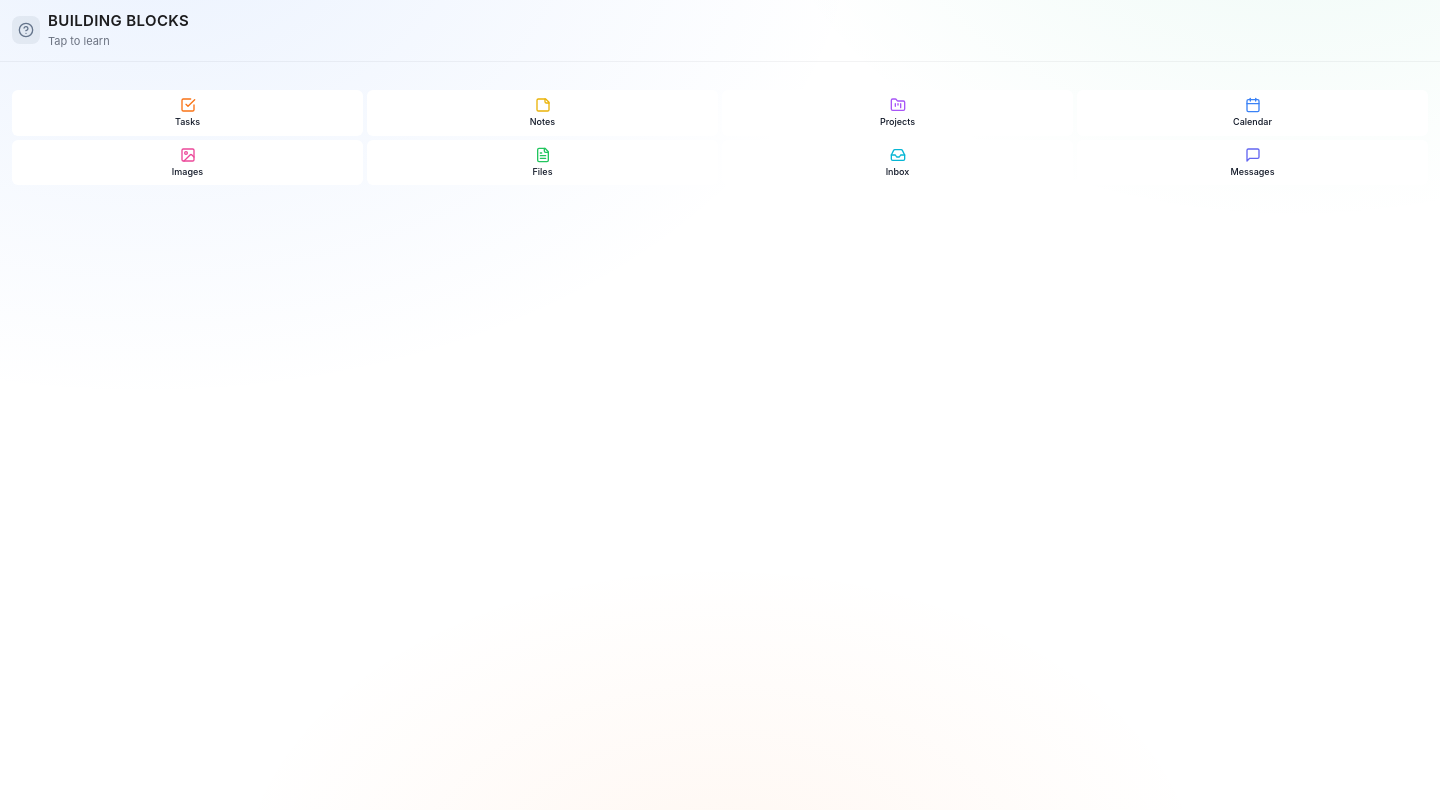
Test: FeatureGuideWidget › Feature Selection › shows close button in feature info panel
Click the button "Projects" at (898, 113), box [722, 90, 1073, 136]
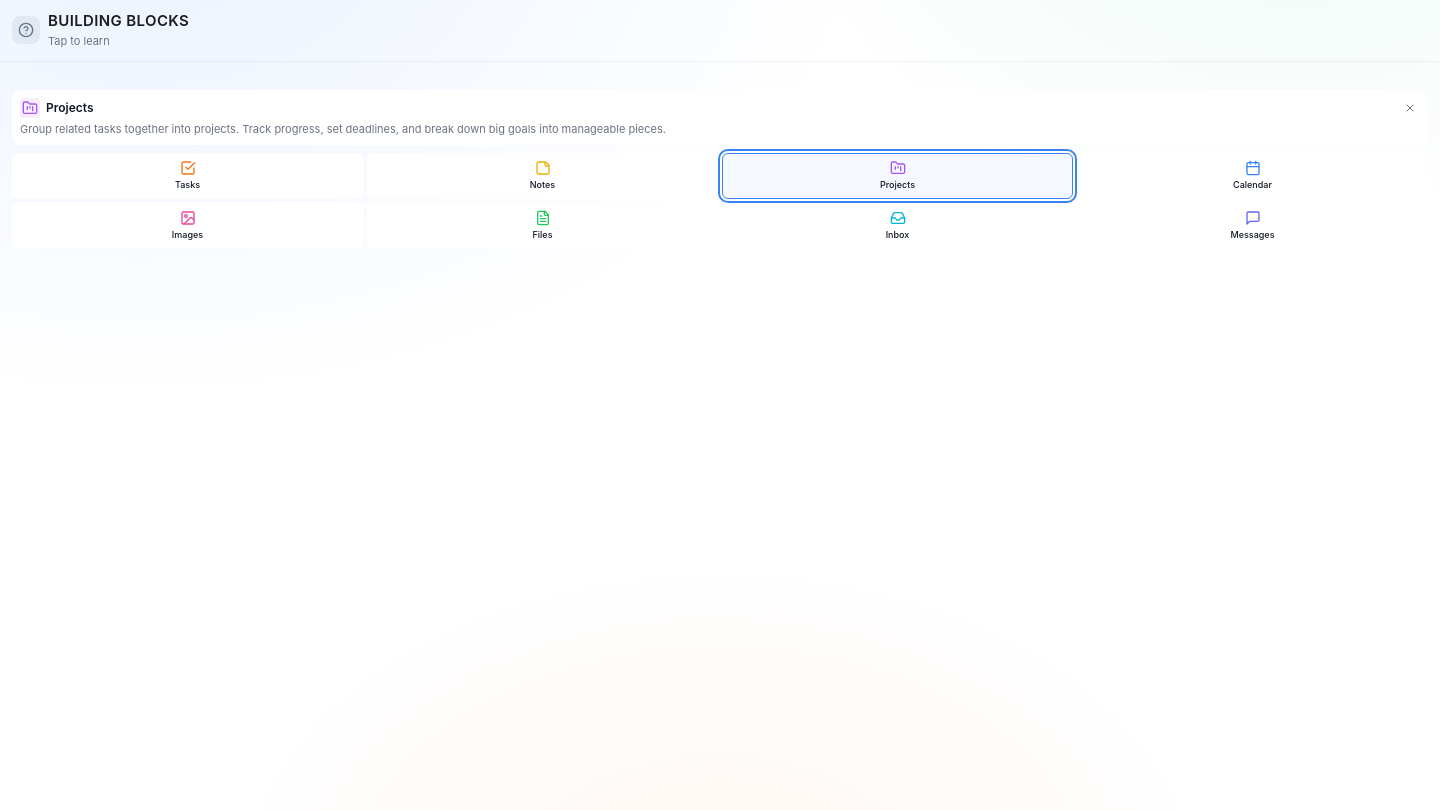
Now the button with class "feature-guide-info-close" is shown, box [1400, 98, 1420, 118]
